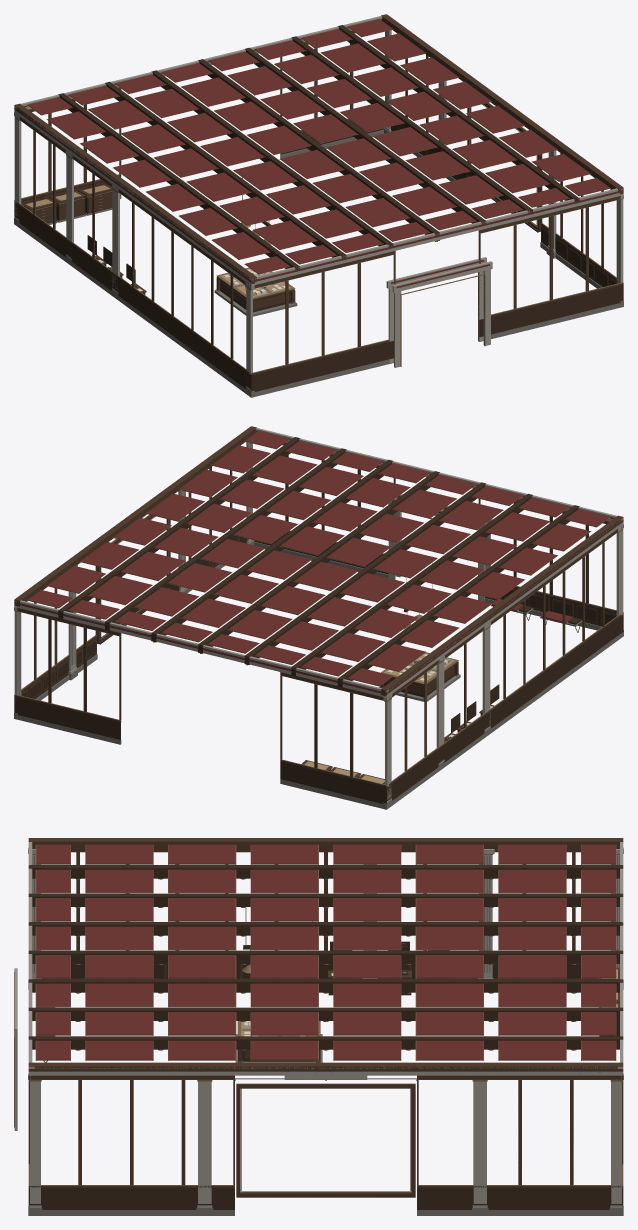
File: ops.glb
The picture shows the model from 3 angles, top to bottom: view 1: azimuth 30°, elevation 25°; view 2: azimuth 150°, elevation 25°; view 3: azimuth 270°, elevation 25°; orthographic projection. The views are drawn at different scales.
Visible parts, largest first — view 1: m8_ops; view 2: m8_ops; view 3: m8_ops.
Boxes of the visible parts, <box> form: m8_ops: <box>14,14,623,397</box>; m8_ops: <box>14,426,623,809</box>; m8_ops: <box>14,838,623,1215</box>.
Bounding box in the file's own units: 19.6 × 6.05 × 22.15.
